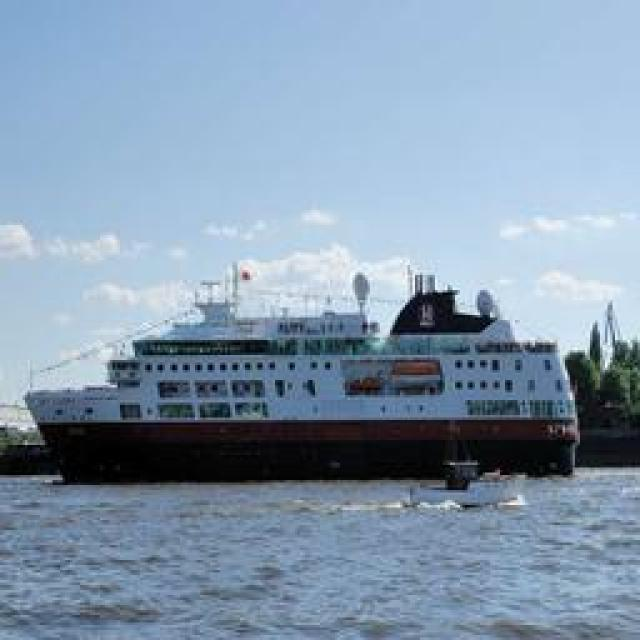CIV_Ship: (16, 269, 596, 479)
